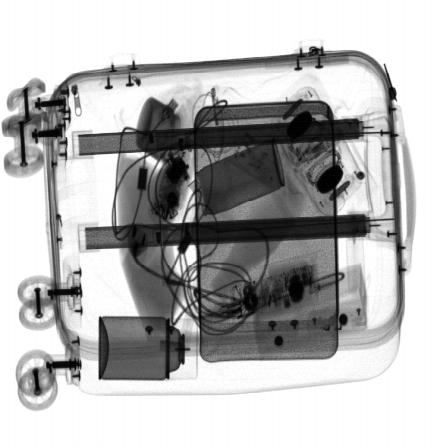Sprayer: (98, 316, 198, 380)
